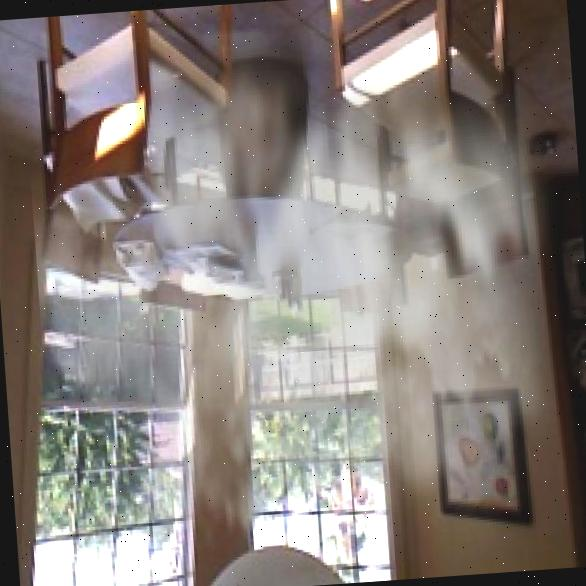smoke: (21, 6, 586, 586)
